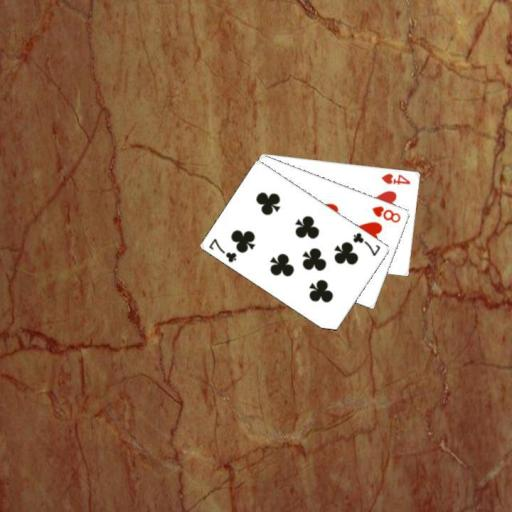4H: (378, 170, 412, 186)
7C: (206, 235, 238, 264), (350, 229, 382, 257)
8H: (369, 203, 403, 224)
